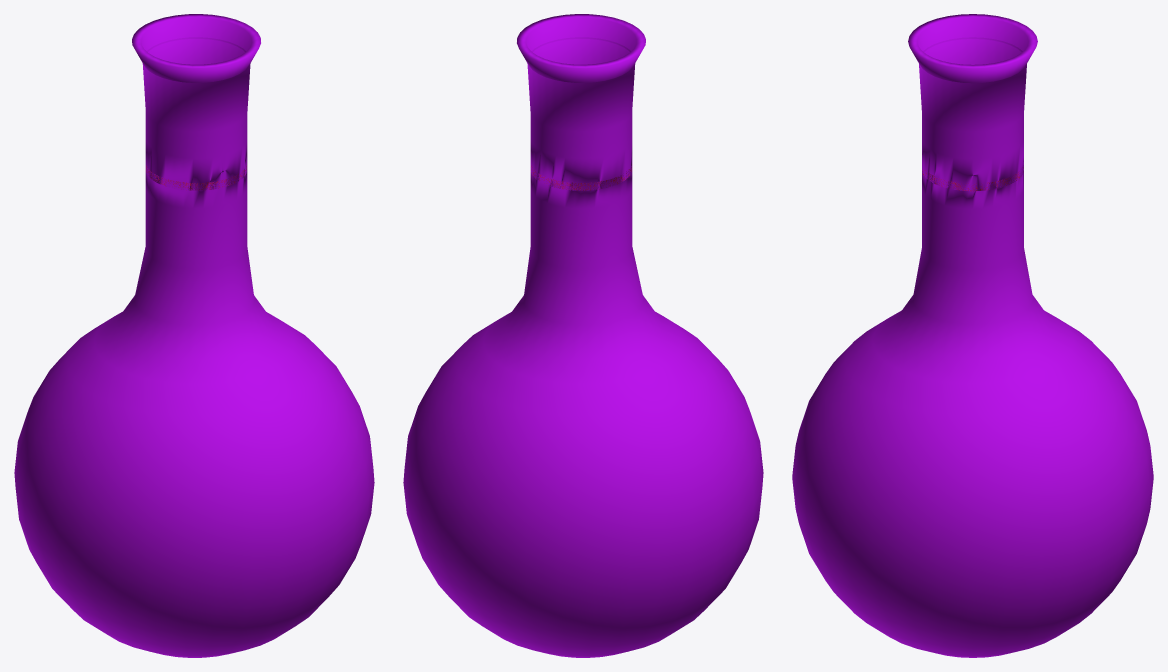
File: asset.glb
3 views of the same model, side by side, from view 1: azimuth 30°, elevation 25°; view 2: azimuth 150°, elevation 25°; view 3: azimuth 270°, elevation 25° (orthographic).
Parts seen in each view (by area): view 1: Sphere; view 2: Sphere; view 3: Sphere.
Boxes of the visible parts, x1,y1,x2,y2 form: Sphere: [14, 14, 374, 657]; Sphere: [403, 14, 763, 657]; Sphere: [792, 14, 1153, 657].
Size of the model in its own units: 2 by 3.61 by 2.
